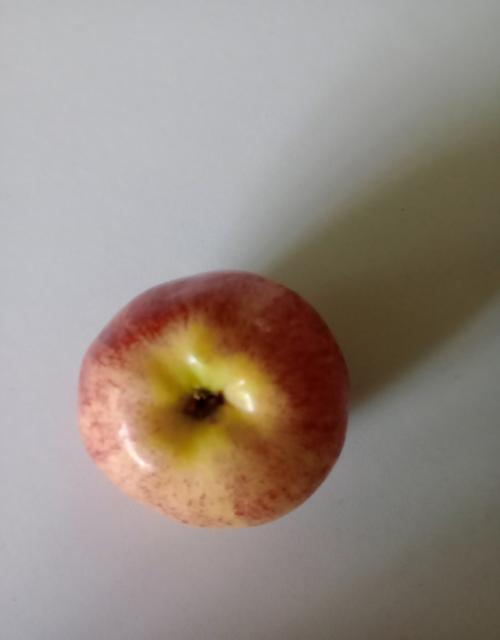Manzana: (23, 252, 369, 544)
